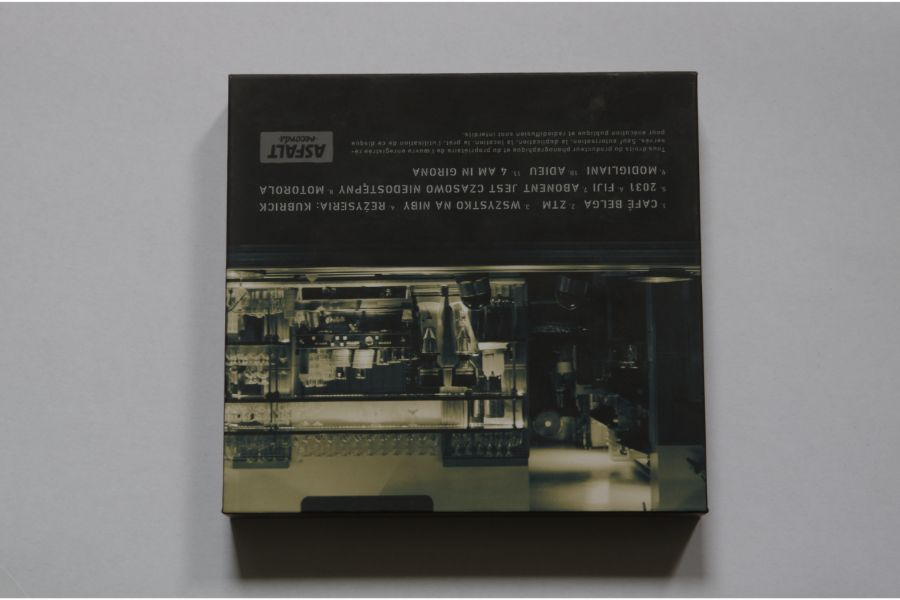album: (220, 70, 710, 520)
